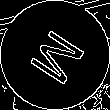M_SE: (21, 22, 89, 88)
